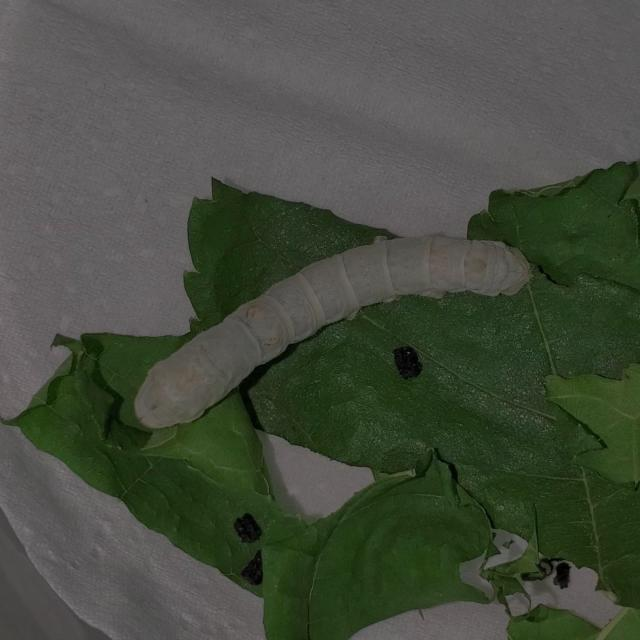Healthy: (107, 206, 555, 444)
